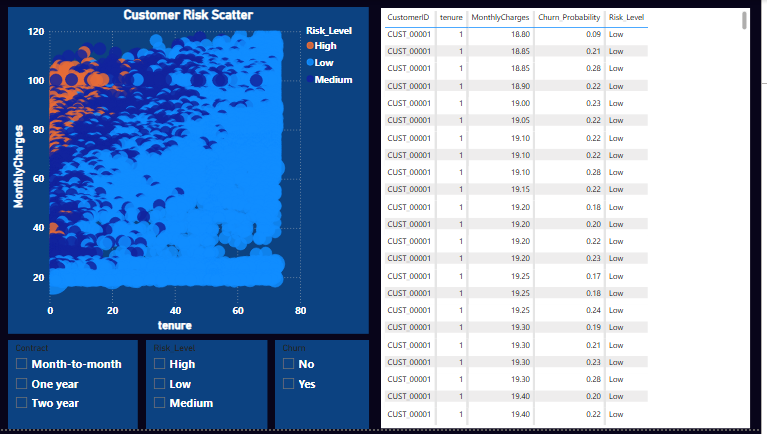

The dashboard page shown, as its layout file describes it:
{"tool":"powerbi","page":{"name":"Customer Risk Analysis","canvas":[1280,720],"ordinal":2},"visuals":[{"type":"scatterChart","title":"Customer Risk Scatter","fields":{"Series":["churn_predictions.Risk_Level"],"Y":["churn_predictions.MonthlyCharges"],"X":["churn_predictions.tenure"],"Size":["CountNonNull(churn_predictions.Churn_Probability)"]},"box":[15.8,12.3,605.7,549.3],"z":0},{"type":"tableEx","fields":{"Values":["churn_predictions.CustomerID","churn_predictions.tenure","churn_predictions.MonthlyCharges","churn_predictions.Churn_Probability","churn_predictions.Risk_Level"]},"box":[640.9,14.1,619.8,706],"z":1000},{"type":"slicer","fields":{"Values":["churn_predictions.Contract"]},"box":[15.8,570.5,218.3,149.7],"z":2000},{"type":"slicer","fields":{"Values":["churn_predictions.Risk_Level"]},"box":[246.5,570.5,204.2,149.7],"z":3000},{"type":"slicer","fields":{"Values":["churn_predictions.Churn"]},"box":[463.1,570.5,158.5,149.7],"z":4000}]}

Visuals, with their boxes in screenshot pixels (x1, y1, x2, y2), scaled from the page's 1280x720 canvas onto the 767x434 screenshot:
"Customer Risk Scatter" scatterChart: box=[9, 7, 372, 339]
tableEx - churn_predictions.CustomerID x churn_predictions.tenure: box=[384, 8, 755, 433]
slicer - churn_predictions.Contract: box=[9, 344, 140, 433]
slicer - churn_predictions.Risk_Level: box=[148, 344, 270, 433]
slicer - churn_predictions.Churn: box=[277, 344, 372, 433]
